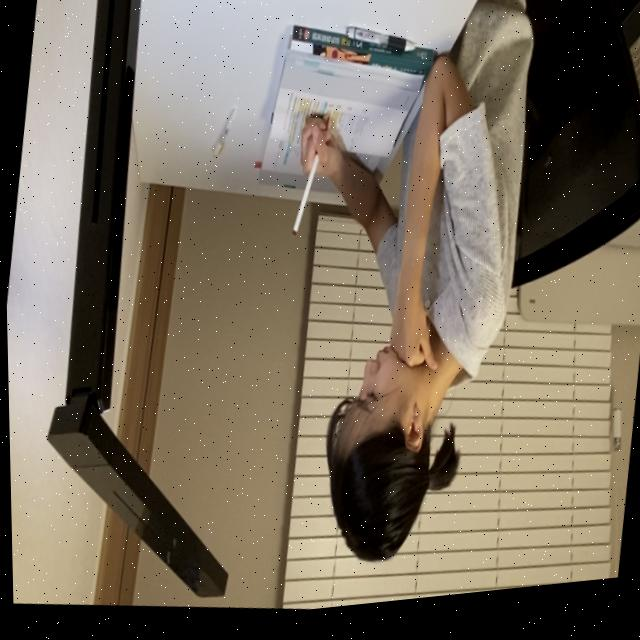studying-person: (200, 0, 569, 608)
